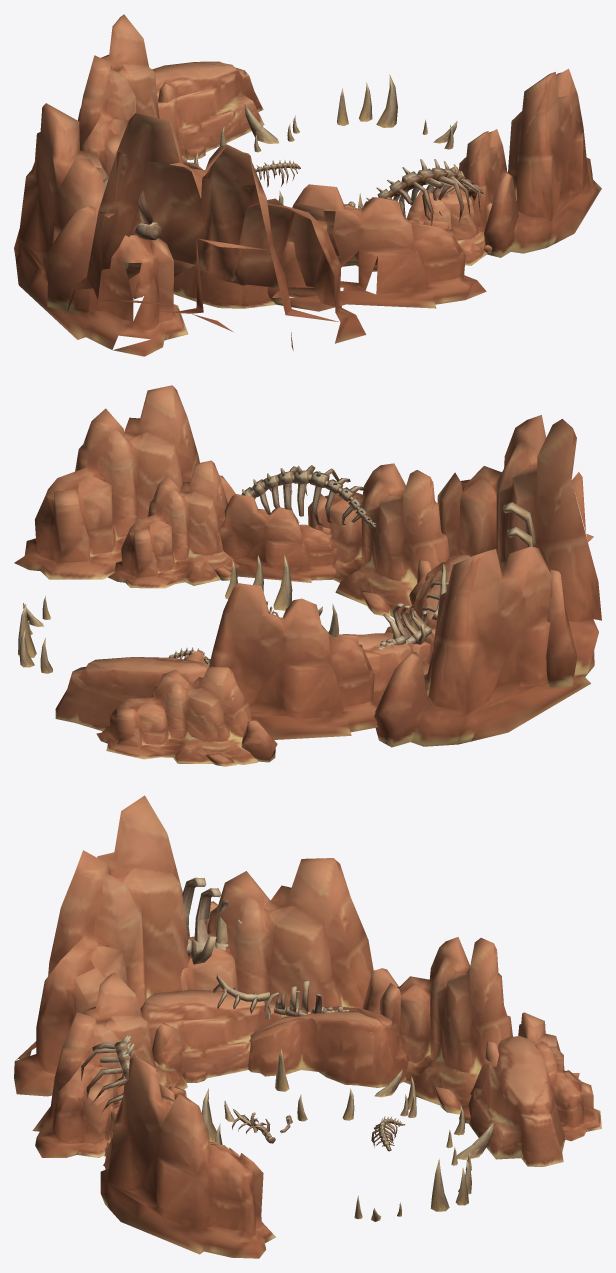
File: Area_03_1_y.FBX
The picture shows the model from 3 angles, top to bottom: view 1: azimuth 30°, elevation 25°; view 2: azimuth 150°, elevation 25°; view 3: azimuth 270°, elevation 25°; orthographic projection.
Visible parts, largest first — view 1: Area_03_1_y; view 2: Area_03_1_y; view 3: Area_03_1_y.
Boxes of the visible parts, box(x1,y1,x2,y2) form: Area_03_1_y: box(14, 14, 601, 356); Area_03_1_y: box(14, 385, 601, 766); Area_03_1_y: box(14, 795, 601, 1258).
Bounding box in the file's own units: 97.71 × 39.55 × 90.31.
Materials: 1 (1 with a texture image).
